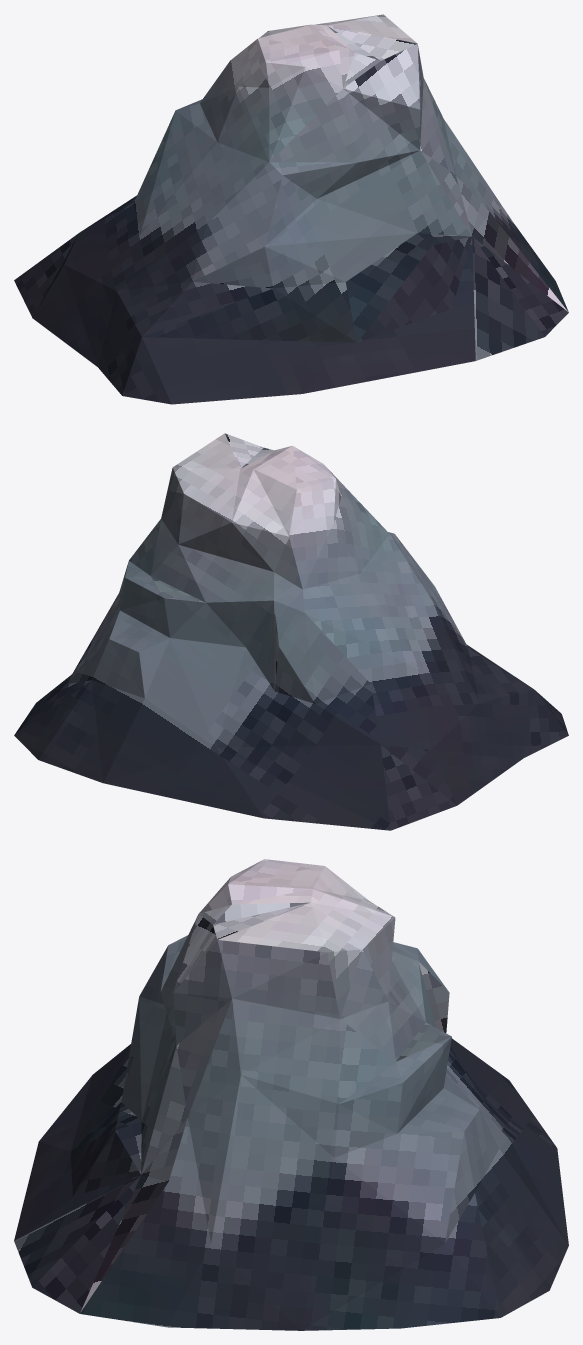
File: mountain_snow_low.glb
3 views of the same model, one above another, from view 1: azimuth 30°, elevation 25°; view 2: azimuth 150°, elevation 25°; view 3: azimuth 270°, elevation 25° (orthographic). The views are drawn at different scales.
Visible parts, largest first — view 1: mountain_snow_low; view 2: mountain_snow_low; view 3: mountain_snow_low.
Part boxes in pixels (box(x1,y1,x2,y2)): mountain_snow_low: box(14, 14, 568, 404); mountain_snow_low: box(14, 433, 568, 830); mountain_snow_low: box(14, 859, 568, 1330).
Size of the model in its own units: 82.36 by 45.93 by 70.79.
Materials: 1 (1 with a texture image).
